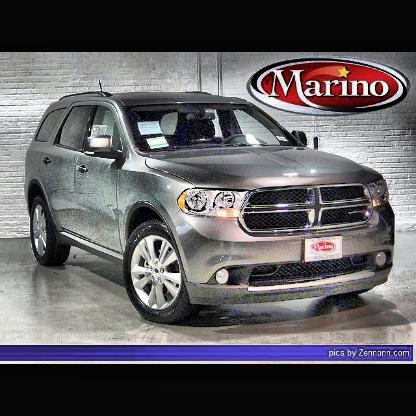Dodge Durango SUV 2012: (22, 79, 399, 327)
